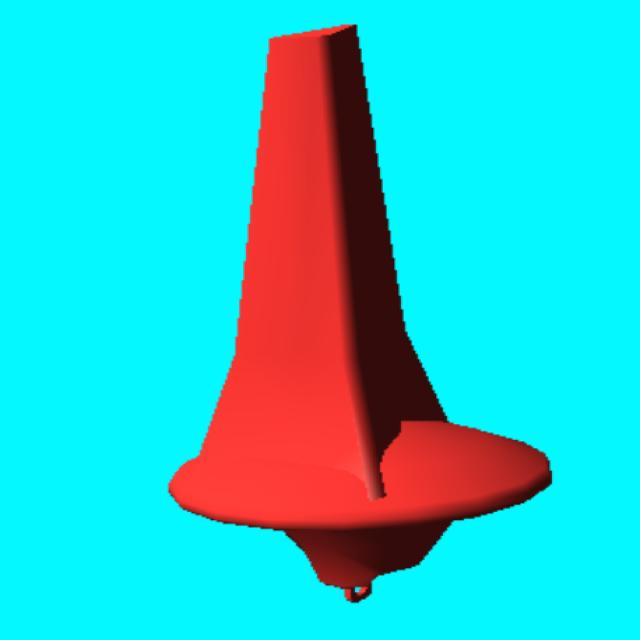RedBuoy: (168, 24, 555, 605)
